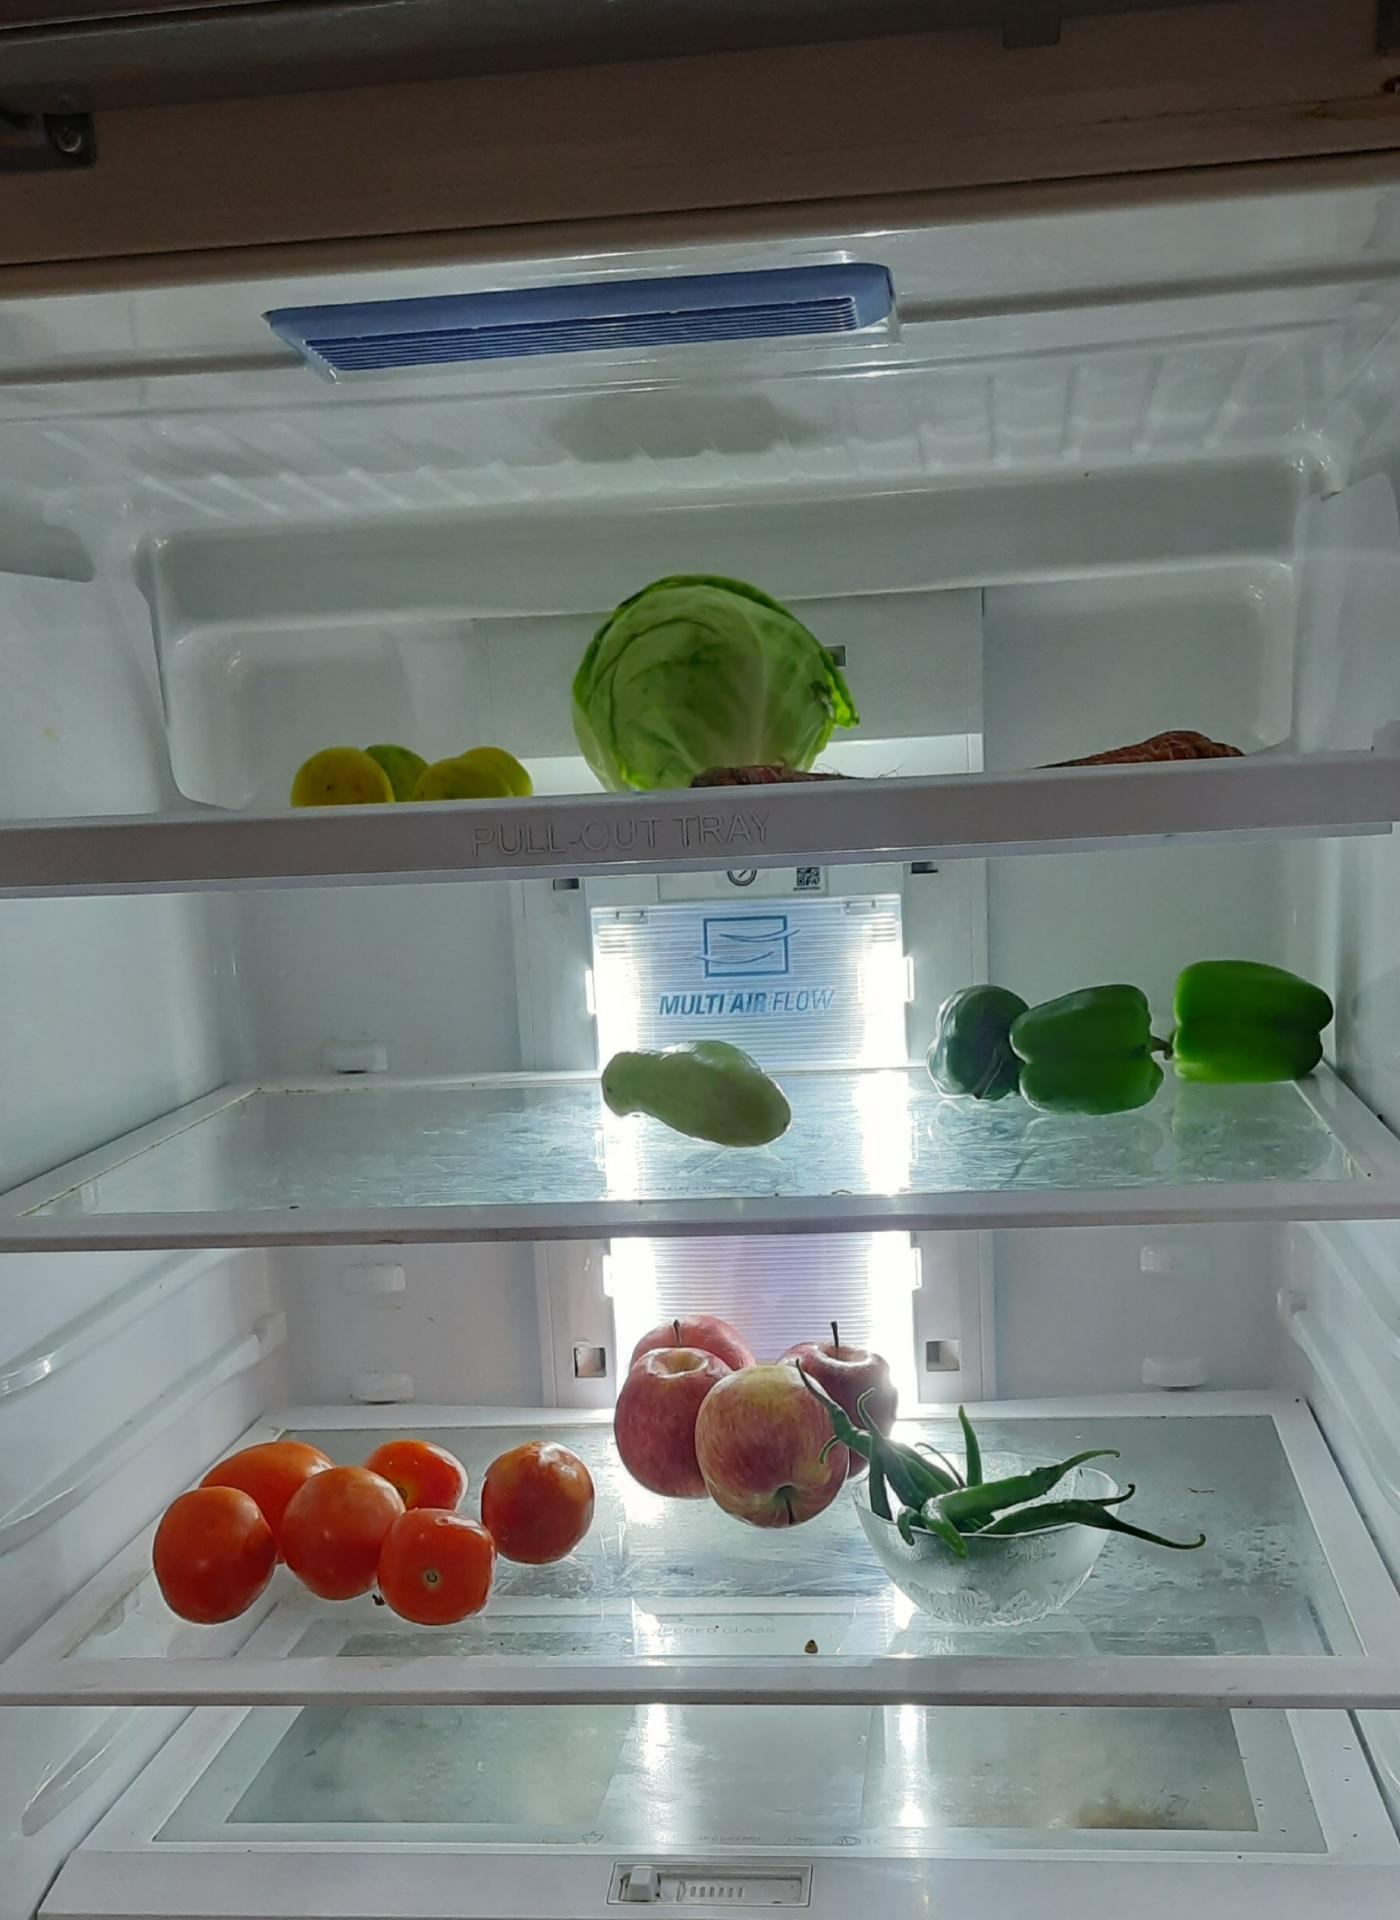apple: (620, 1318, 889, 1531)
cabbage: (565, 571, 859, 784)
capsicum: (923, 961, 1333, 1099)
chillies: (853, 1421, 1197, 1573)
cucumber: (593, 1032, 796, 1140)
lemon: (289, 729, 540, 808)
tomato: (152, 1425, 595, 1619)
